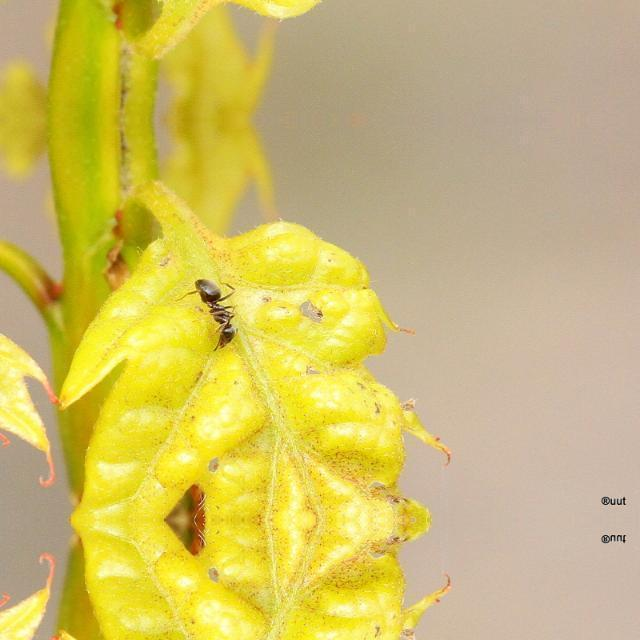Lasius: (188, 272, 270, 364)
